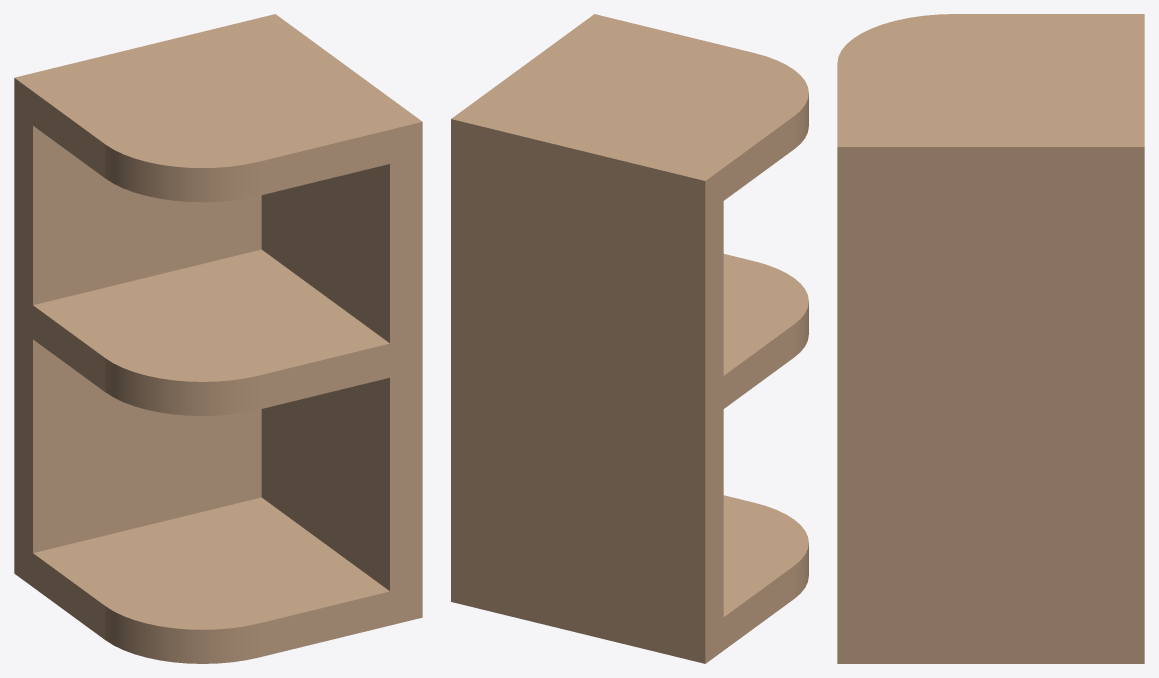
Rendered from kitchenCabinetUpperCorner.glb.
3 views of the same model, side by side, from view 1: azimuth 30°, elevation 25°; view 2: azimuth 150°, elevation 25°; view 3: azimuth 270°, elevation 25° (orthographic). The views are drawn at different scales.
Parts seen in each view (by area): view 1: kitchenCabinetUpperCorner; view 2: kitchenCabinetUpperCorner; view 3: kitchenCabinetUpperCorner.
Part boxes in pixels (<box>): kitchenCabinetUpperCorner: <box>14,14,422,663</box>; kitchenCabinetUpperCorner: <box>451,14,808,663</box>; kitchenCabinetUpperCorner: <box>837,14,1144,663</box>.
Size of the model in its own units: 0.215 by 0.39 by 0.21.
